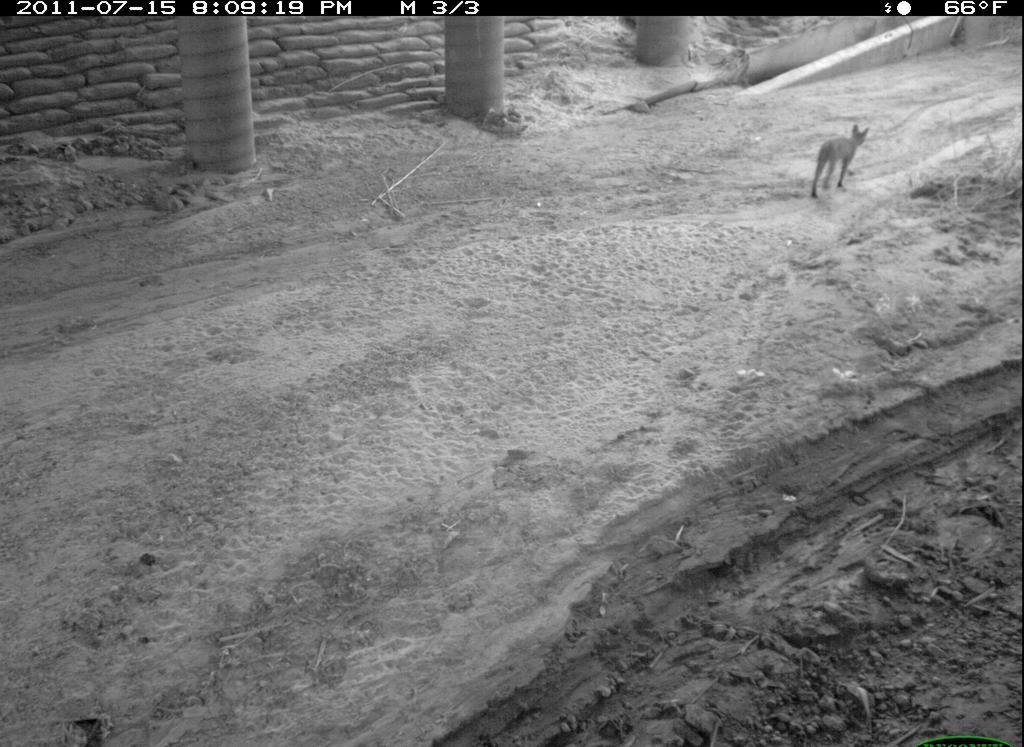bobcat: (804, 121, 873, 201)
